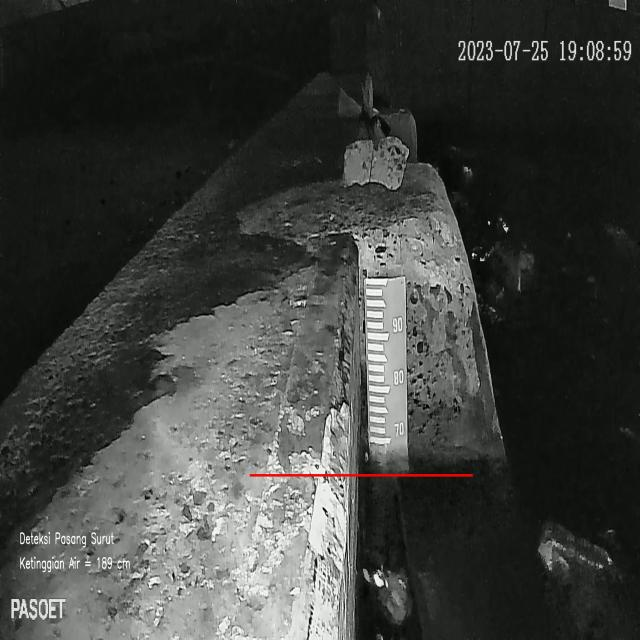70: (394, 421, 405, 439)
80: (392, 366, 404, 386)
90: (391, 315, 403, 334)
staff: (363, 277, 407, 457)
